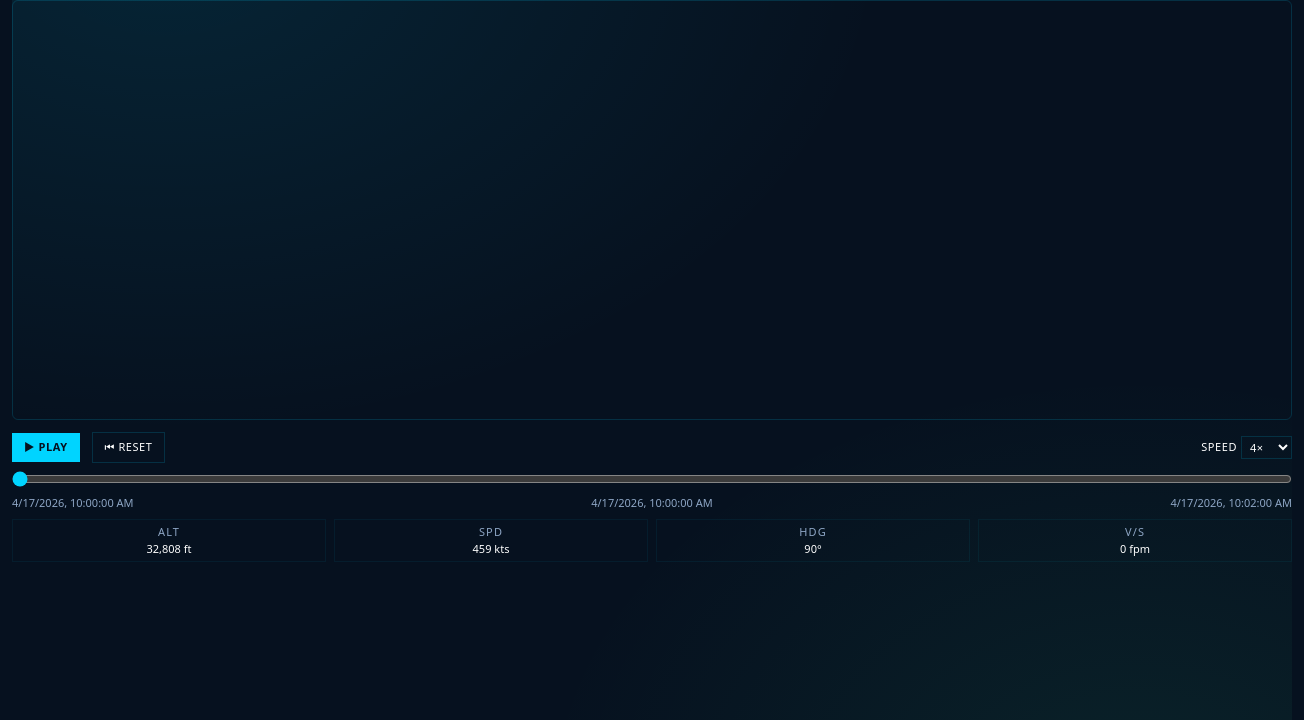
Test: <FlightReplayMap /> › play button toggles label between PLAY and PAUSE
Click the button "▶ PLAY": coordinates (46, 447) [12,433,80,462]
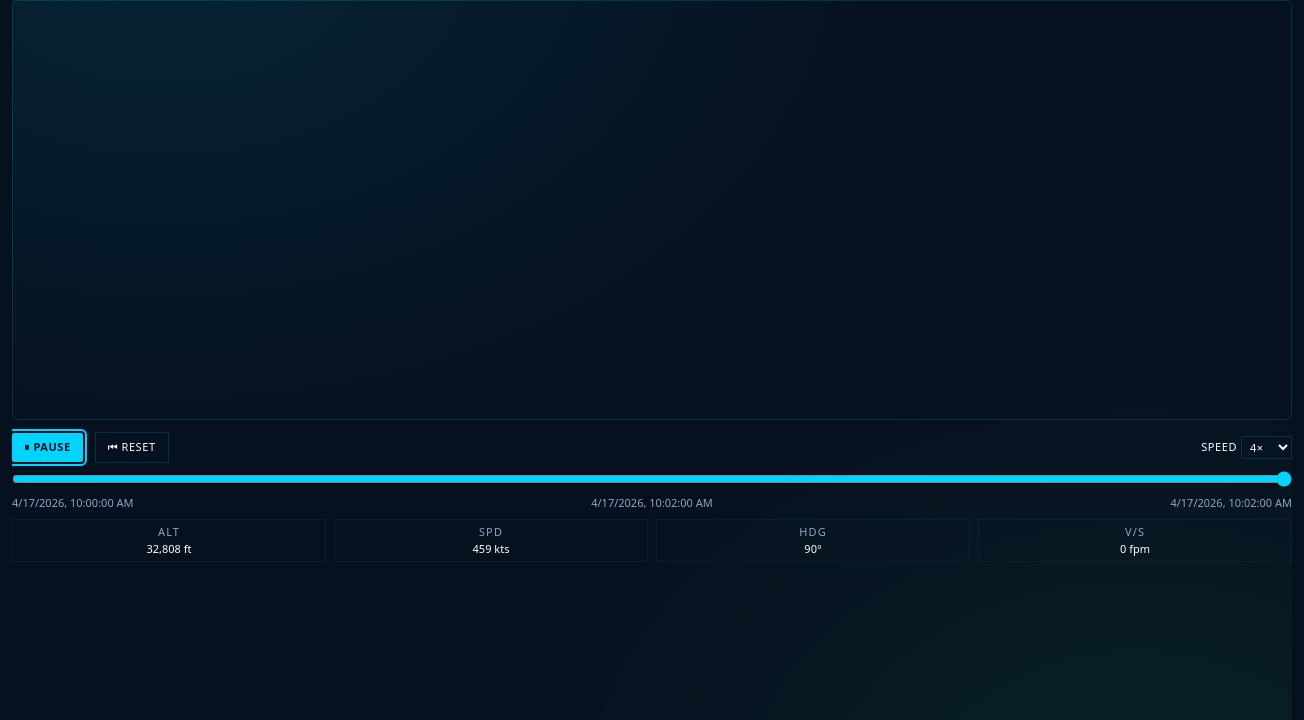
Now the button named "PLAY" shows "PAUSE", box [12,433,83,462]
